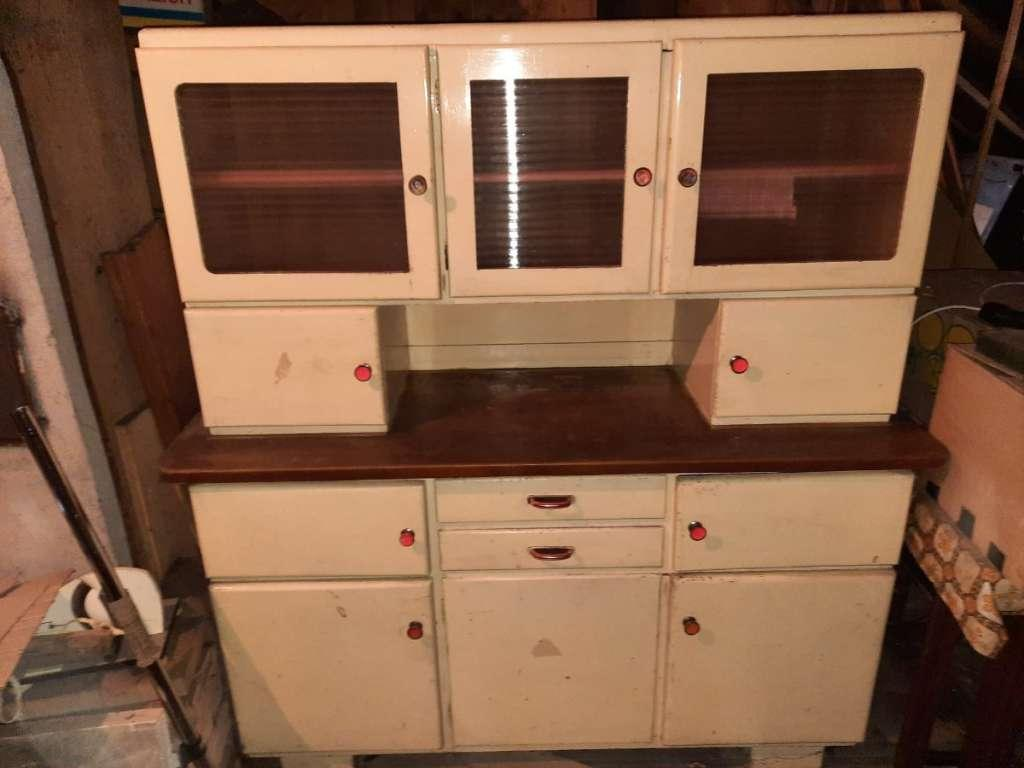cabinet_door: (156, 49, 430, 293), (668, 43, 938, 281), (438, 50, 655, 294), (441, 576, 654, 746), (223, 585, 430, 750), (660, 580, 869, 739), (182, 303, 392, 430), (677, 478, 906, 570), (196, 487, 429, 577), (712, 302, 901, 410), (437, 477, 670, 525), (440, 524, 667, 569)
handle: (525, 491, 580, 514), (530, 541, 578, 564), (722, 350, 757, 378), (681, 518, 712, 548), (348, 358, 377, 389), (398, 617, 428, 646), (394, 524, 421, 553), (677, 614, 705, 641), (629, 163, 654, 192), (676, 163, 701, 192), (405, 170, 429, 199)
